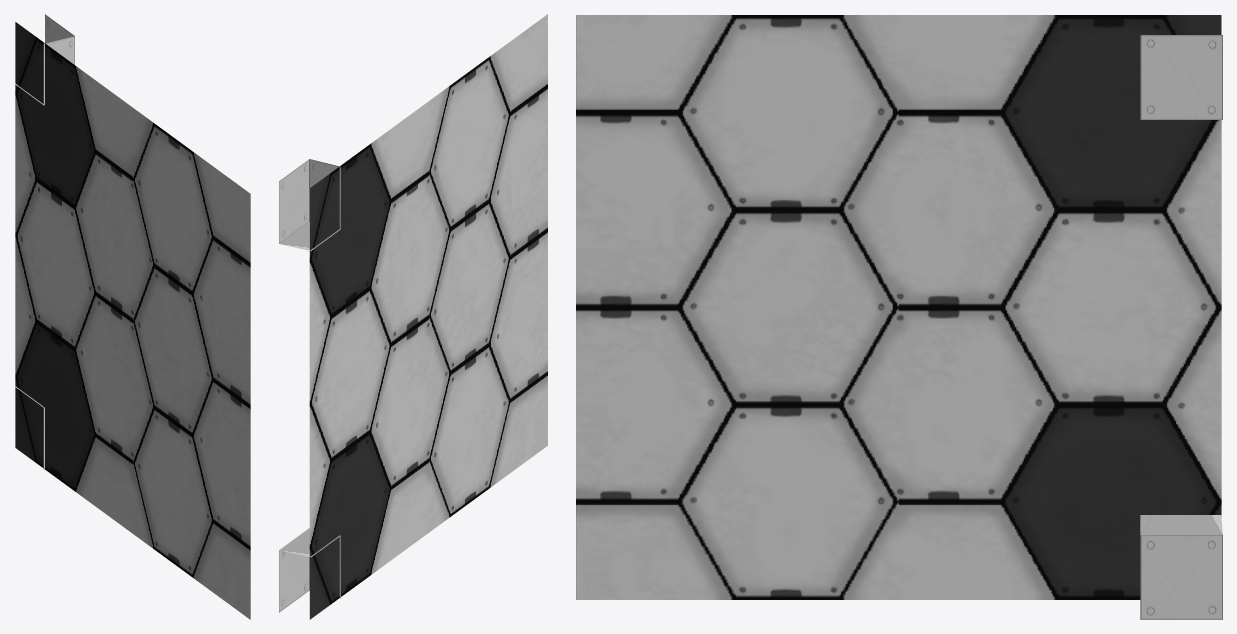
The model's file is Wall_CornerRight.fbx.
The picture shows the model from 3 angles, left to right: view 1: azimuth 30°, elevation 25°; view 2: azimuth 150°, elevation 25°; view 3: azimuth 270°, elevation 25°; orthographic projection. The views are drawn at different scales.
Visible parts, largest first — view 1: pPlane120; view 2: pPlane120; view 3: pPlane120.
Boxes of the visible parts, x1,y1,x2,y2 form: pPlane120: (15, 14, 250, 619); pPlane120: (279, 14, 547, 619); pPlane120: (576, 15, 1222, 619).
Size of the model in its own units: 0.1534 by 2 by 2.
